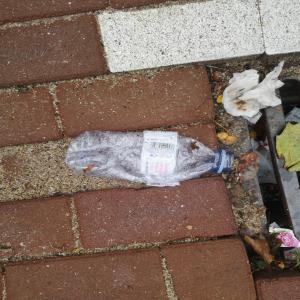Plastic-bottle: (61, 130, 242, 192)
Trash: (220, 59, 296, 127), (268, 221, 300, 252)
